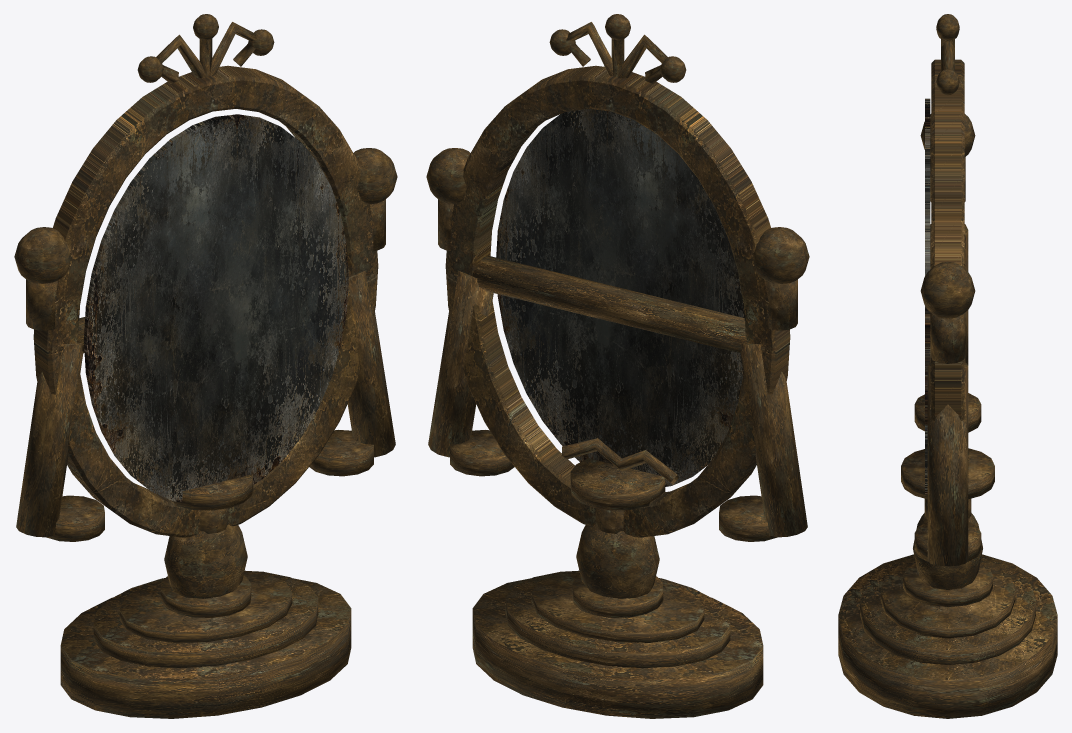
The model's file is vanity_mirror.glb.
3 renders of one model, left to right at view 1: azimuth 30°, elevation 25°; view 2: azimuth 150°, elevation 25°; view 3: azimuth 270°, elevation 25°, orthographic.
Visible parts, largest first — view 1: VanityMirror_CloudedGlass, VanityMirror_OvalFrame, VanityMirror_BaseLower, VanityMirror_BaseUpper, VanityMirror_LeftSupport, VanityMirror_BaseTrim, VanityMirror_RightSupport, VanityMirror_StemBulb, VanityMirror_LeftFinial, VanityMirror_StemRing, VanityMirror_RightFoot, VanityMirror_LeftFoot (+7 smaller); view 2: VanityMirror_CloudedGlass, VanityMirror_OvalFrame, VanityMirror_BaseLower, VanityMirror_PivotAxle, VanityMirror_BaseUpper, VanityMirror_LeftSupport, VanityMirror_BaseTrim, VanityMirror_RightSupport, VanityMirror_StemBulb, VanityMirror_StemCap, VanityMirror_LeftFinial, VanityMirror_StemRing (+9 smaller); view 3: VanityMirror_BaseLower, VanityMirror_OvalFrame, VanityMirror_BaseUpper, VanityMirror_RightSupport, VanityMirror_BaseTrim, VanityMirror_RightFinial, VanityMirror_StemRing, VanityMirror_StemCap, VanityMirror_CloudedGlass, VanityMirror_StemBulb, VanityMirror_RightFinialStem, VanityMirror_RightFoot (+6 smaller).
Boxes of the visible parts, x1=… form: VanityMirror_CloudedGlass: x1=83, y1=114, x2=348, y2=502; VanityMirror_OvalFrame: x1=33, y1=65, x2=378, y2=537; VanityMirror_BaseLower: x1=60, y1=578, x2=351, y2=718; VanityMirror_BaseUpper: x1=93, y1=571, x2=318, y2=668; VanityMirror_LeftSupport: x1=16, y1=343, x2=83, y2=537; VanityMirror_BaseTrim: x1=119, y1=570, x2=292, y2=642; VanityMirror_RightSupport: x1=347, y1=271, x2=395, y2=457; VanityMirror_StemBulb: x1=164, y1=524, x2=247, y2=598; VanityMirror_LeftFinial: x1=14, y1=227, x2=71, y2=283; VanityMirror_StemRing: x1=160, y1=575, x2=251, y2=617; VanityMirror_RightFoot: x1=309, y1=430, x2=373, y2=476; VanityMirror_LeftFoot: x1=46, y1=495, x2=104, y2=541; VanityMirror_CloudedGlass: x1=496, y1=109, x2=744, y2=486; VanityMirror_OvalFrame: x1=445, y1=65, x2=790, y2=537; VanityMirror_BaseLower: x1=472, y1=578, x2=763, y2=718; VanityMirror_PivotAxle: x1=454, y1=255, x2=764, y2=353; VanityMirror_BaseUpper: x1=505, y1=571, x2=730, y2=668; VanityMirror_LeftSupport: x1=740, y1=343, x2=807, y2=537; VanityMirror_BaseTrim: x1=531, y1=570, x2=704, y2=642; VanityMirror_RightSupport: x1=428, y1=271, x2=493, y2=457; VanityMirror_StemBulb: x1=576, y1=524, x2=659, y2=598; VanityMirror_StemCap: x1=570, y1=458, x2=665, y2=510; VanityMirror_LeftFinial: x1=752, y1=227, x2=809, y2=283; VanityMirror_StemRing: x1=572, y1=575, x2=663, y2=617; VanityMirror_BaseLower: x1=838, y1=554, x2=1057, y2=718; VanityMirror_OvalFrame: x1=931, y1=59, x2=964, y2=420; VanityMirror_BaseUpper: x1=860, y1=555, x2=1035, y2=664; VanityMirror_RightSupport: x1=927, y1=362, x2=968, y2=566; VanityMirror_BaseTrim: x1=880, y1=558, x2=1015, y2=638; VanityMirror_RightFinial: x1=920, y1=261, x2=975, y2=318; VanityMirror_StemRing: x1=903, y1=563, x2=992, y2=606; VanityMirror_StemCap: x1=901, y1=448, x2=994, y2=499; VanityMirror_CloudedGlass: x1=925, y1=98, x2=930, y2=494; VanityMirror_StemBulb: x1=913, y1=513, x2=982, y2=589; VanityMirror_RightFinialStem: x1=930, y1=312, x2=965, y2=363; VanityMirror_RightFoot: x1=914, y1=522, x2=981, y2=561.
Size of the model in its own units: 0.654 by 1.08 by 0.337.
Materials: 2 (2 with a texture image).
